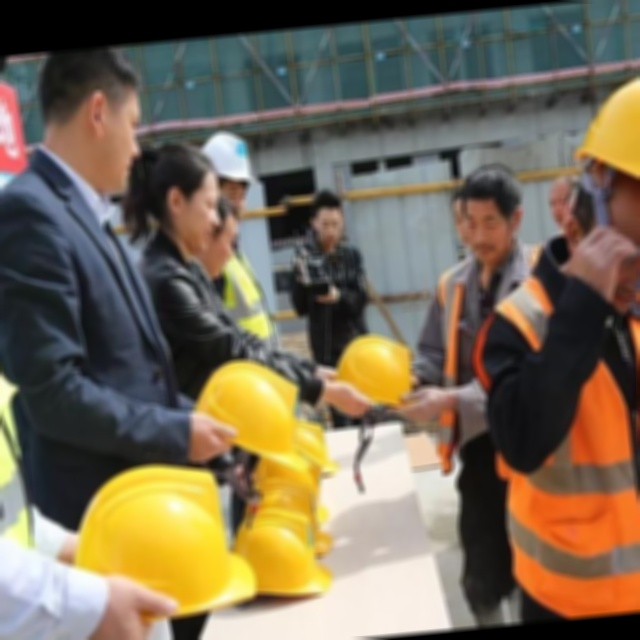Con_Casco: (181, 358, 305, 477), (335, 330, 419, 419)
Con_Chaleco: (478, 260, 640, 619)
Sin_Casco_Mascarrilla: (40, 45, 149, 195), (455, 165, 530, 264)
